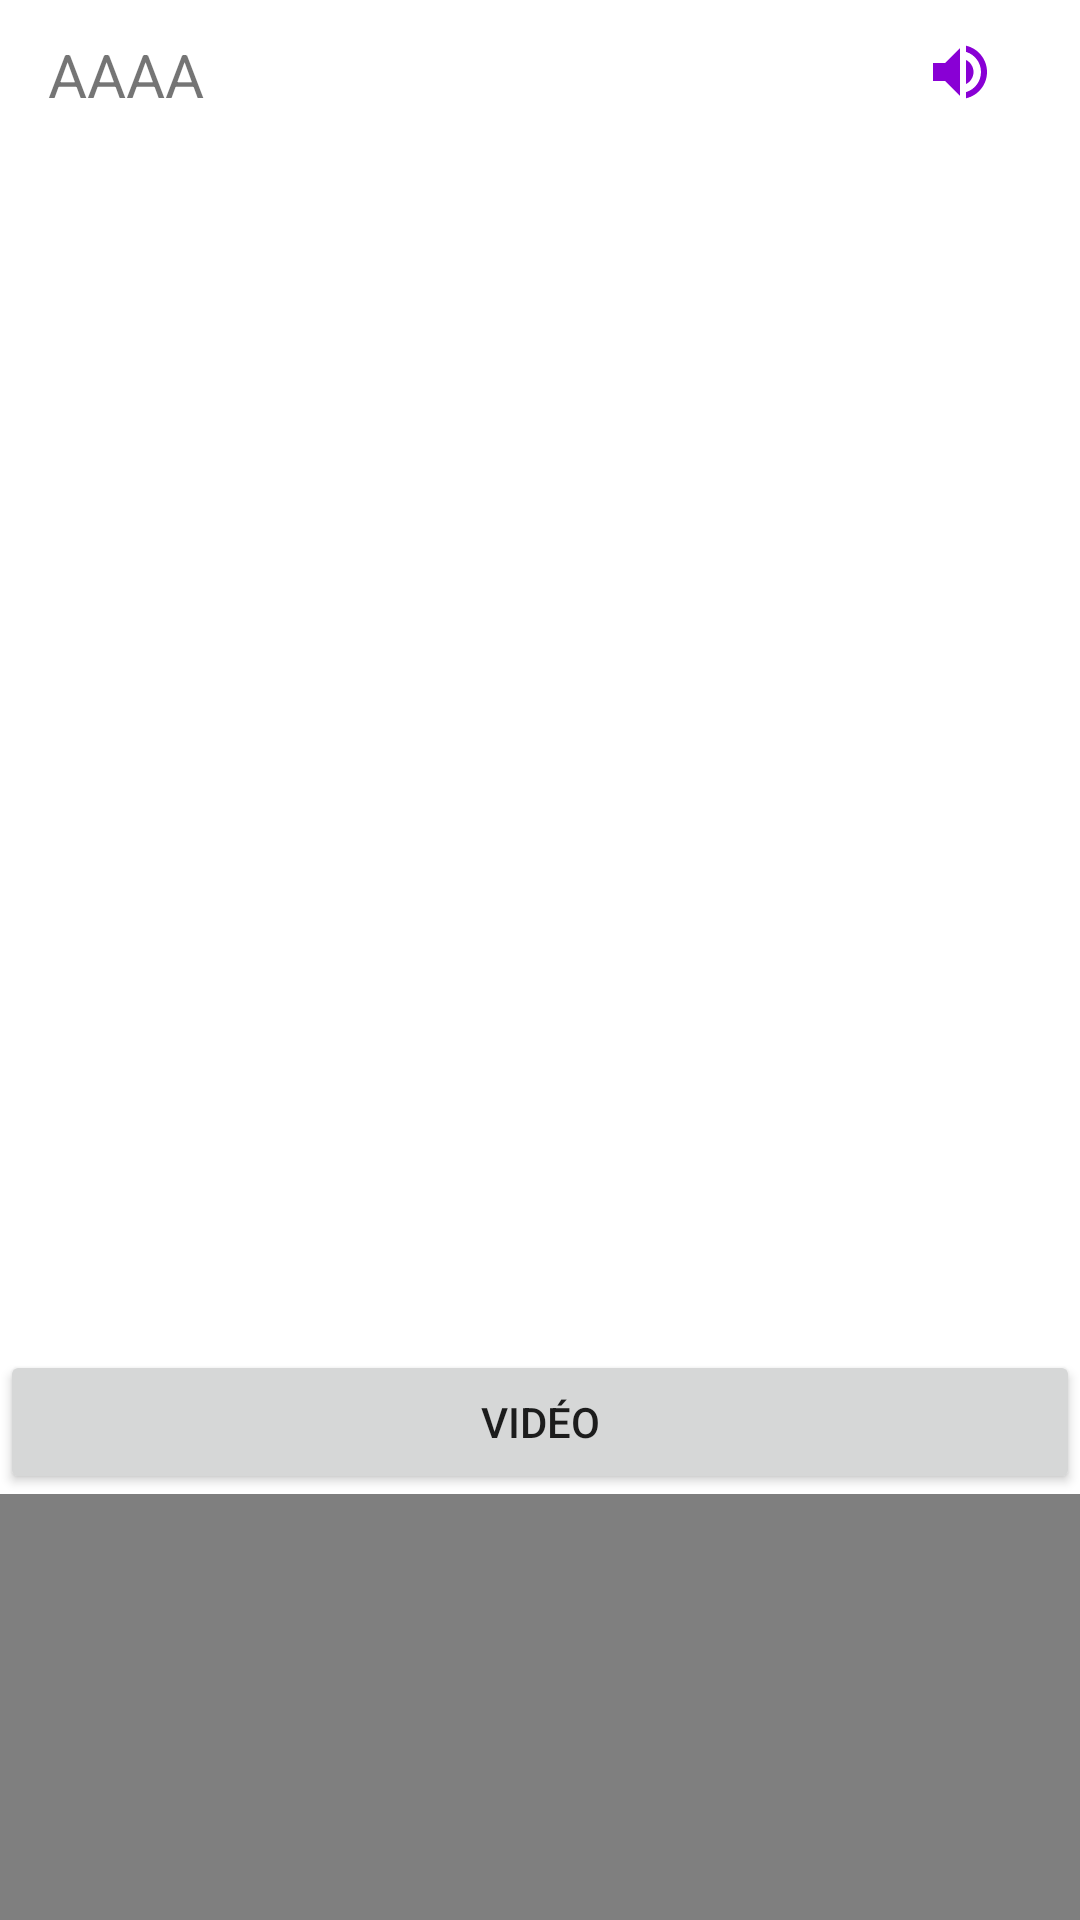

Named icons in this screenshot (1080 x 1920) and their bounding boxes, (x1, y1, x2, y2):
volume: (933, 45, 987, 99)
